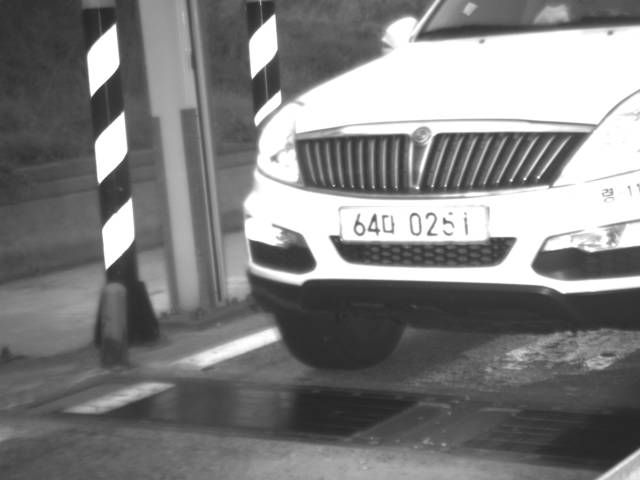car: (240, 1, 639, 372)
plate: (336, 203, 491, 247)
